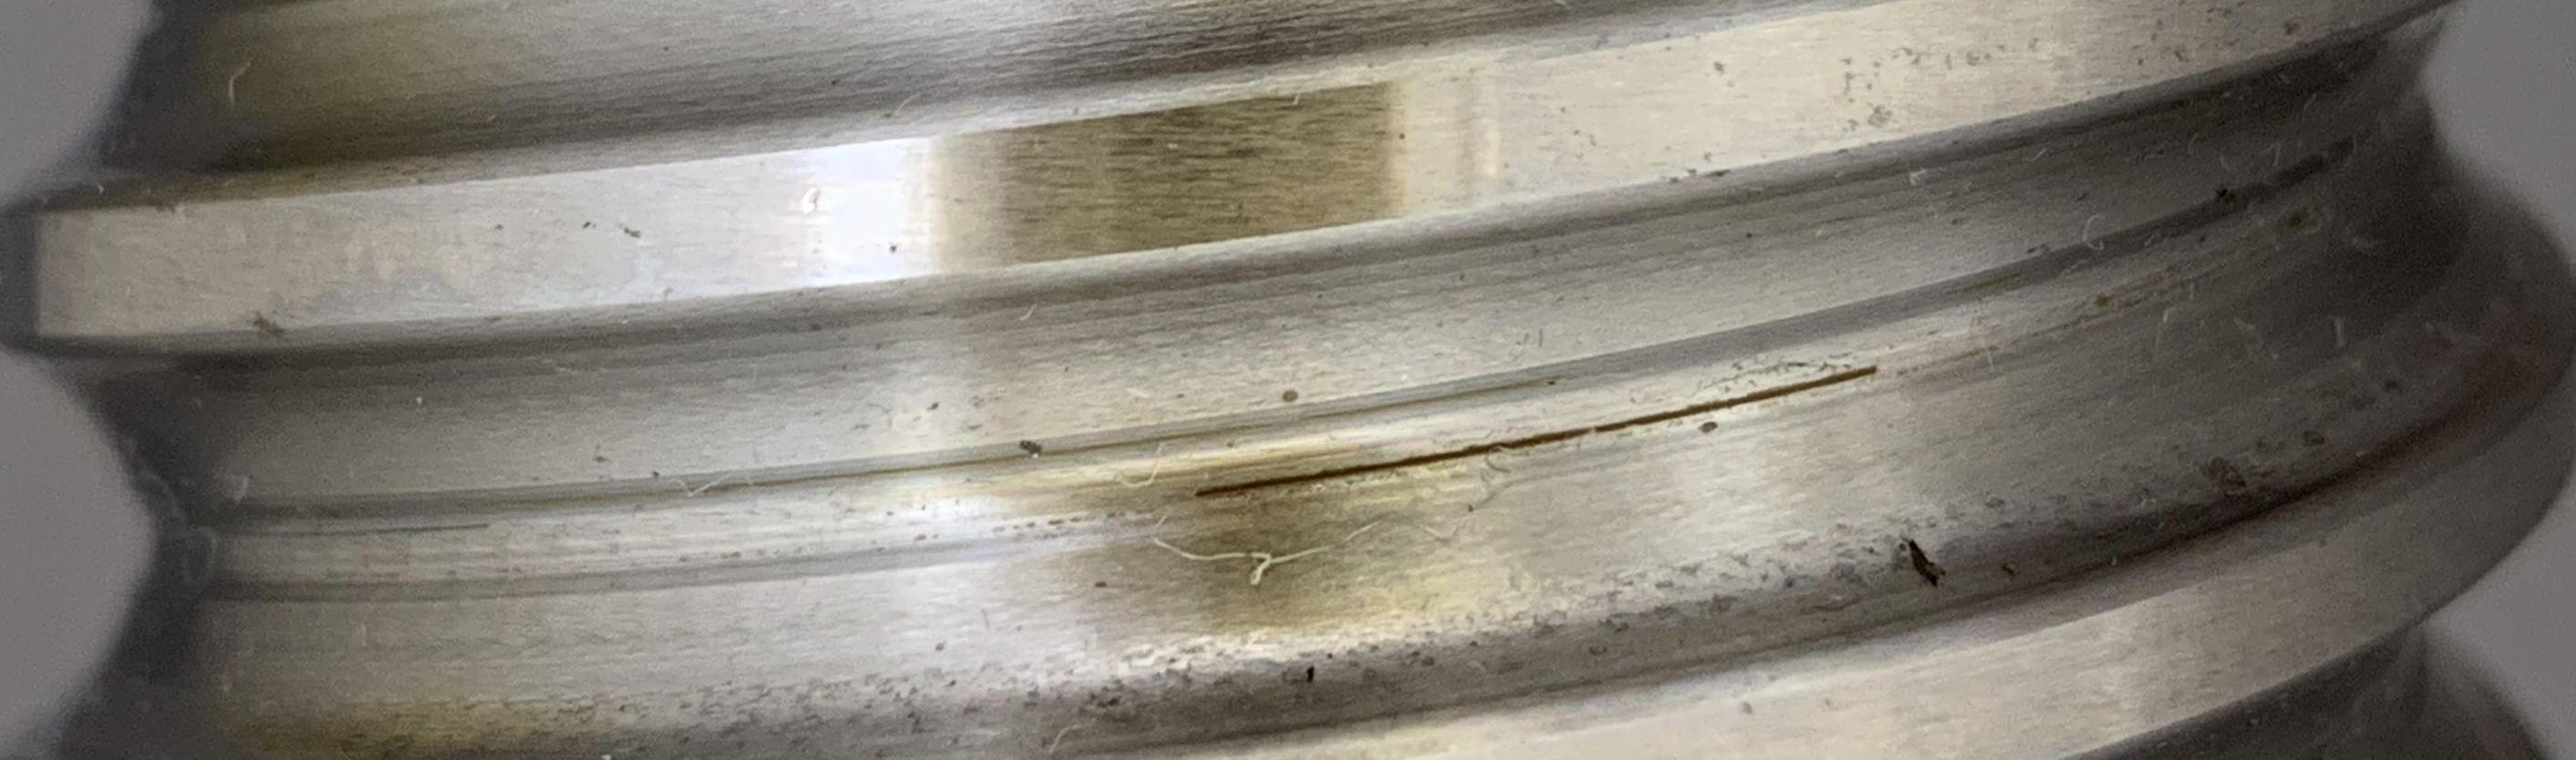pitting: (1909, 540, 1945, 589), (1306, 665, 1314, 681)
